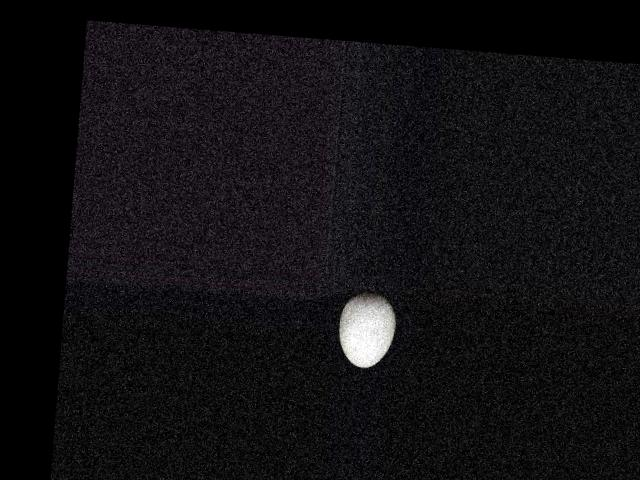egg: (336, 289, 396, 369)
